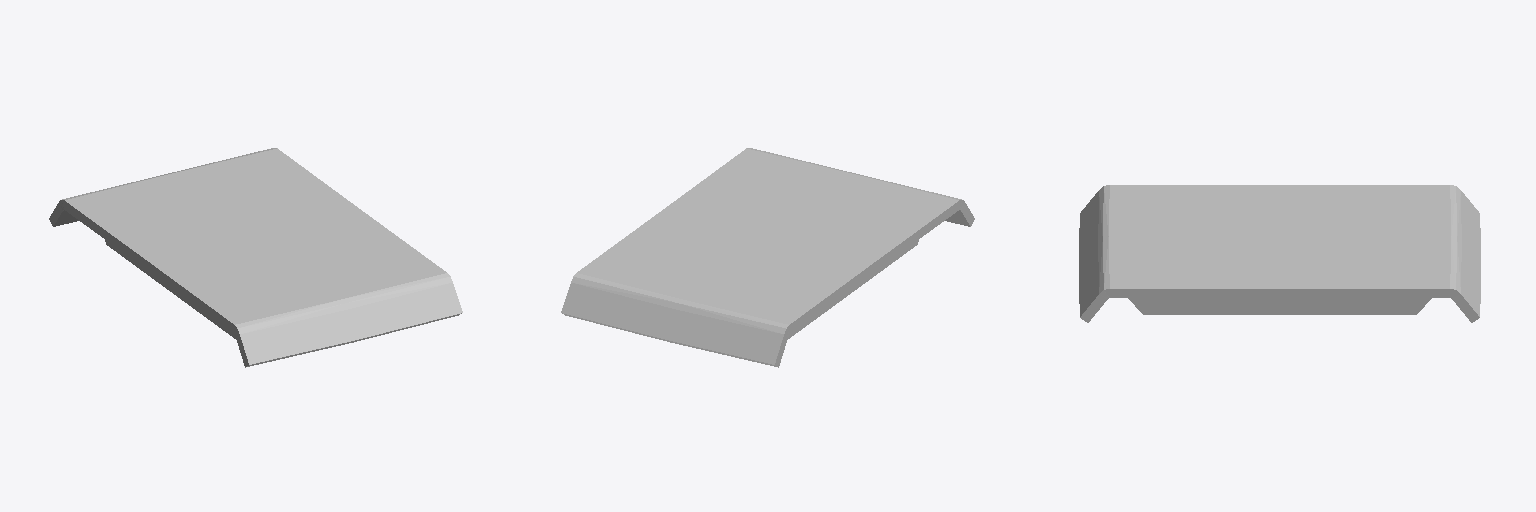
The model's file is body.obj.
3 views of the same model, side by side, from view 1: azimuth 30°, elevation 25°; view 2: azimuth 150°, elevation 25°; view 3: azimuth 270°, elevation 25° (orthographic).
Visible parts, largest first — view 1: Cube; view 2: Cube; view 3: Cube.
Boxes of the visible parts, box(x1,y1,x2,y2) form: Cube: box(49, 148, 462, 367); Cube: box(561, 148, 974, 367); Cube: box(1079, 185, 1480, 322).
Bounding box in the file's own units: 12.07 × 2.09 × 19.65.